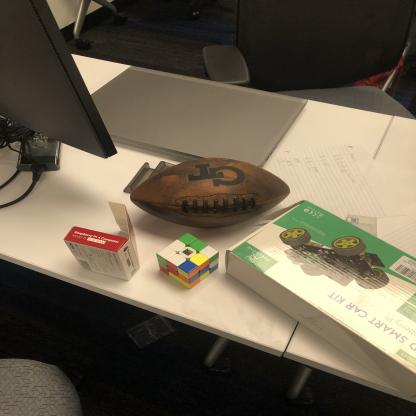UnsolvedCube: (156, 230, 222, 288)
